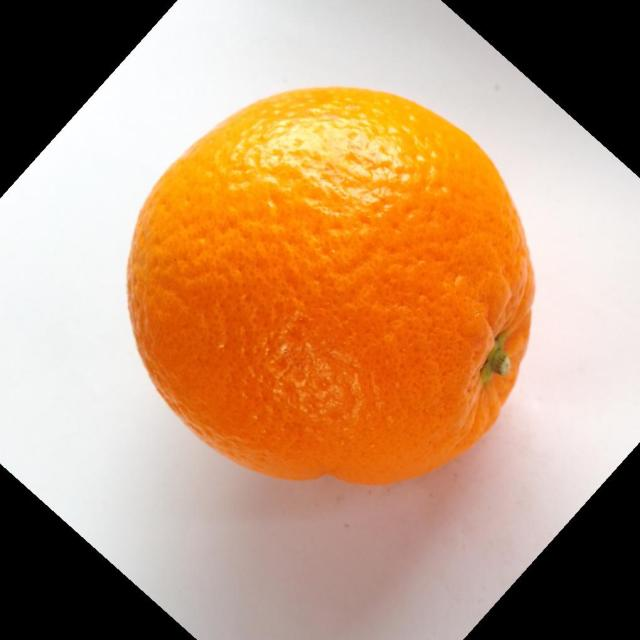fresh orange: (125, 85, 536, 486)
